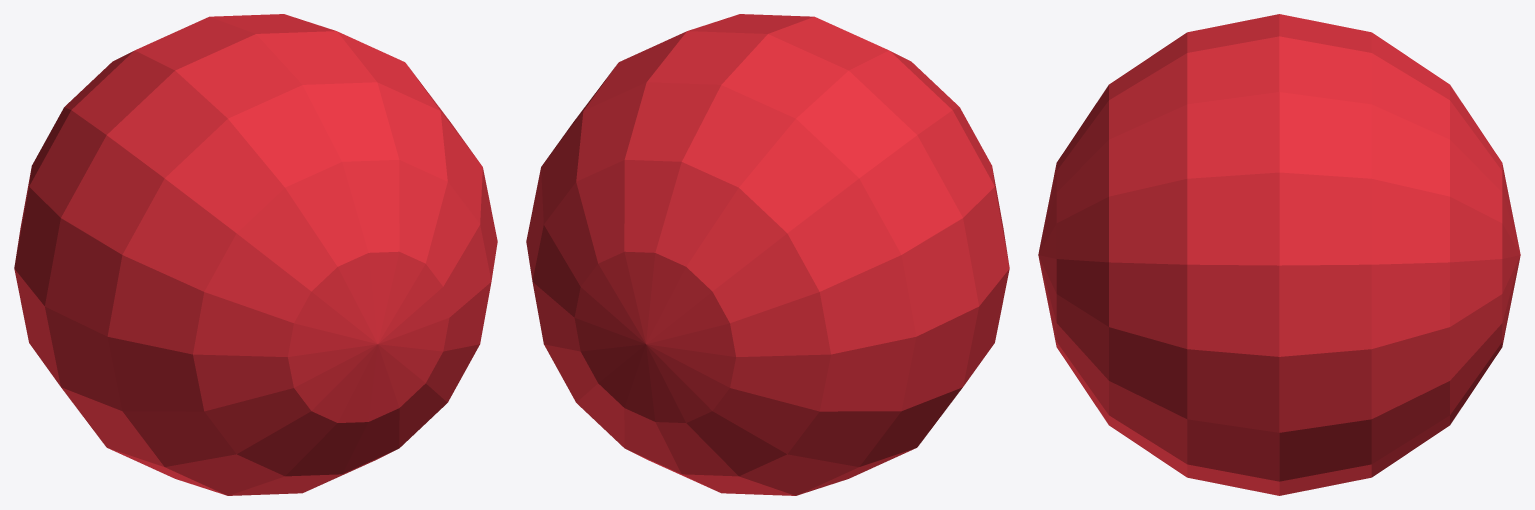
The model's file is en_projectile.glb.
3 views of the same model, side by side, from view 1: azimuth 30°, elevation 25°; view 2: azimuth 150°, elevation 25°; view 3: azimuth 270°, elevation 25° (orthographic).
Visible parts, largest first — view 1: Sphere.004; view 2: Sphere.004; view 3: Sphere.004.
Part boxes in pixels (x1=…): Sphere.004: x1=14, y1=14, x2=497, y2=495; Sphere.004: x1=526, y1=14, x2=1009, y2=495; Sphere.004: x1=1038, y1=14, x2=1520, y2=495.
Bounding box in the file's own units: 1.6 × 1.6 × 1.6.
